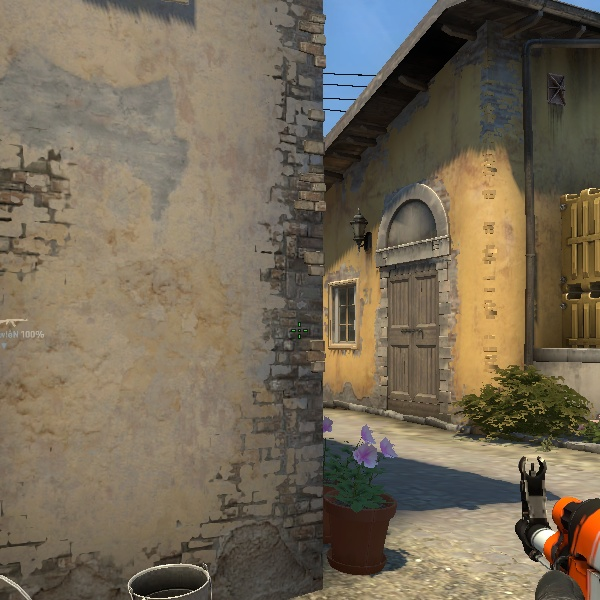t_body: (507, 455, 600, 600)
